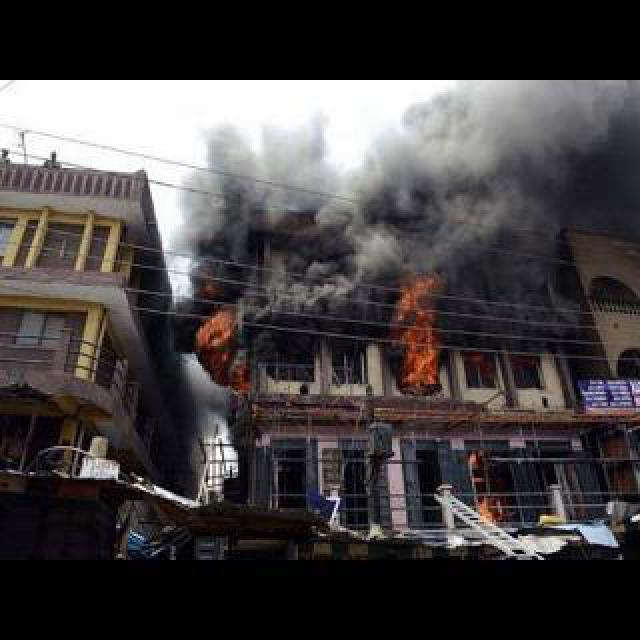Fire: (386, 274, 442, 404), (186, 302, 258, 394), (464, 446, 498, 534)
Smoke: (174, 104, 638, 346)
